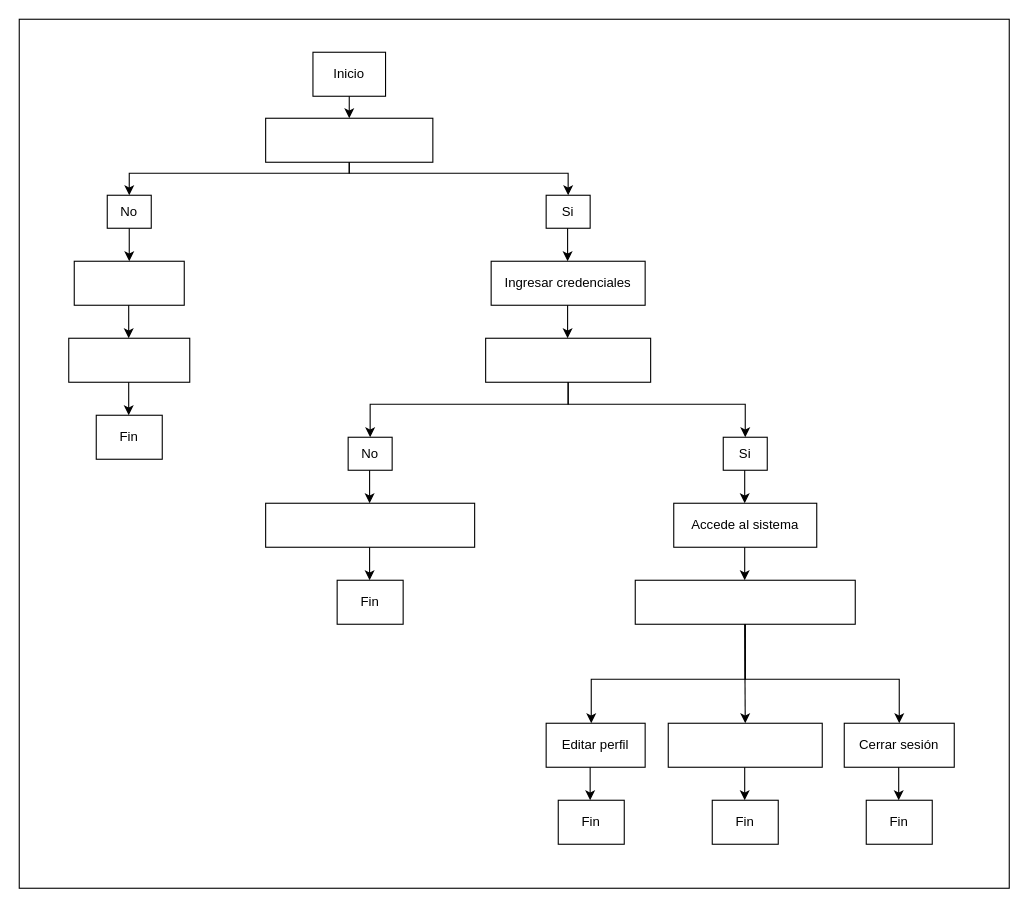
The diagram is 1029 pixels wide and 908 high, and some of its shapes have lost their labels. Here are the shapes that lost their labels. From the top down, the centre of each, then its label:
pixel 349 139: ¿Usuario tiene cuenta?
pixel 128 282: Crear cuenta
pixel 129 359: Verificar correo
pixel 568 359: ¿Credenciales válidas?
pixel 370 524: Mostrar error de autenticación
pixel 744 601: Acciones de usuario autenticado
pixel 744 744: Cambiar contraseña
